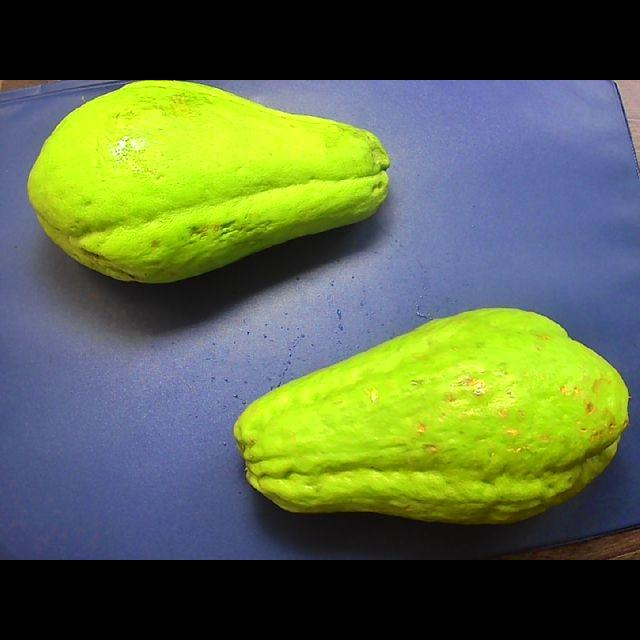chayote: (234, 308, 628, 523), (28, 80, 389, 283)
